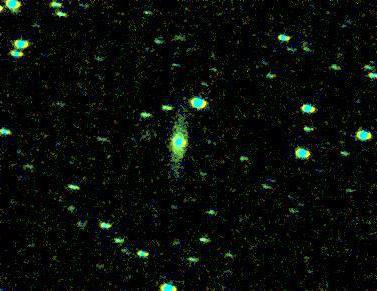star: (0, 0, 15, 24)
